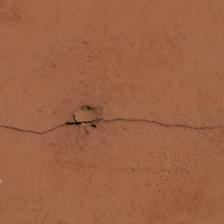Crack: (4, 104, 222, 142)
